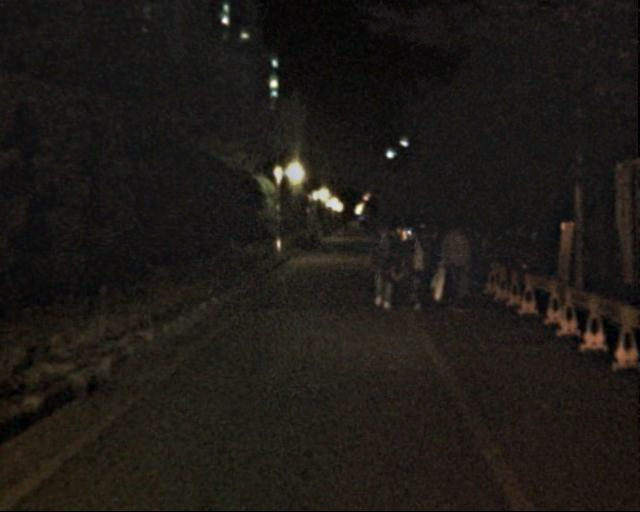person: (434, 218, 474, 315), (365, 228, 400, 313), (398, 228, 430, 307), (461, 227, 492, 303), (416, 233, 441, 293)
